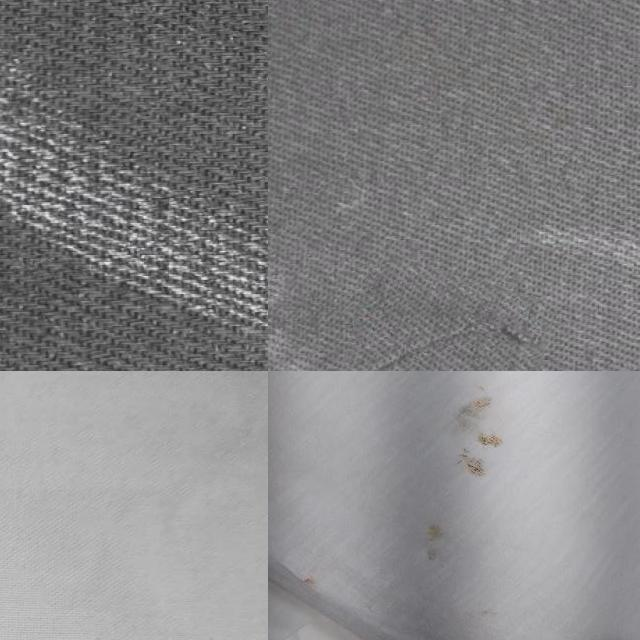Thread_other: (418, 373, 528, 491), (383, 508, 472, 588)
stains: (342, 264, 550, 371)
